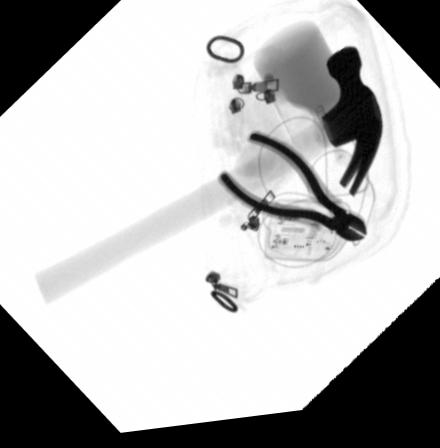Hammer: (34, 56, 384, 307)
Pliers: (216, 136, 366, 251)
